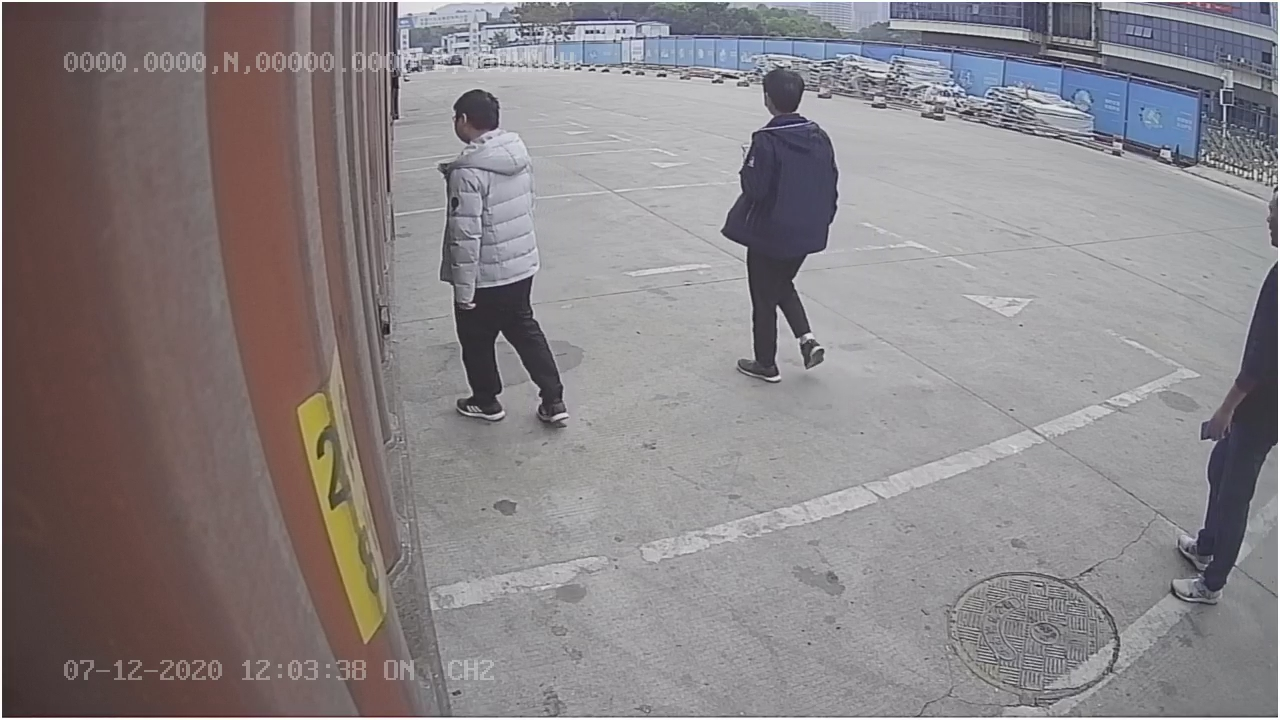person: (429, 87, 576, 427), (716, 69, 836, 383)
